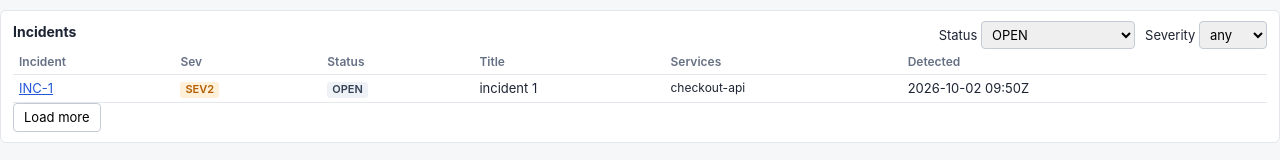
Test: incidents list › filters go to the api, and 'Load more' follows the cursor (no offsets)
Expected: the link "INC-1" is shown, top-left (19, 80), bottom-right (53, 96)
Click the button "Load more" at (57, 118), box top-left (13, 103), bottom-right (101, 132)
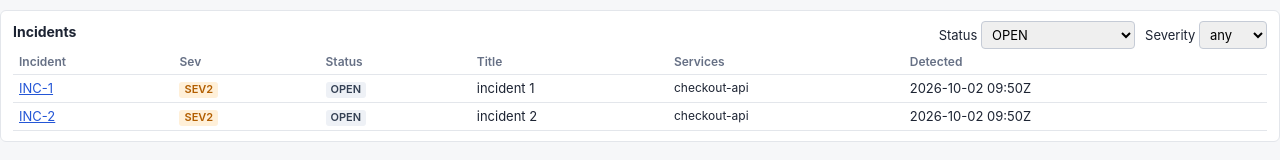
Expected: the link "INC-2" is shown, top-left (19, 108), bottom-right (55, 124)
Expected: the button "Load more" is gone
